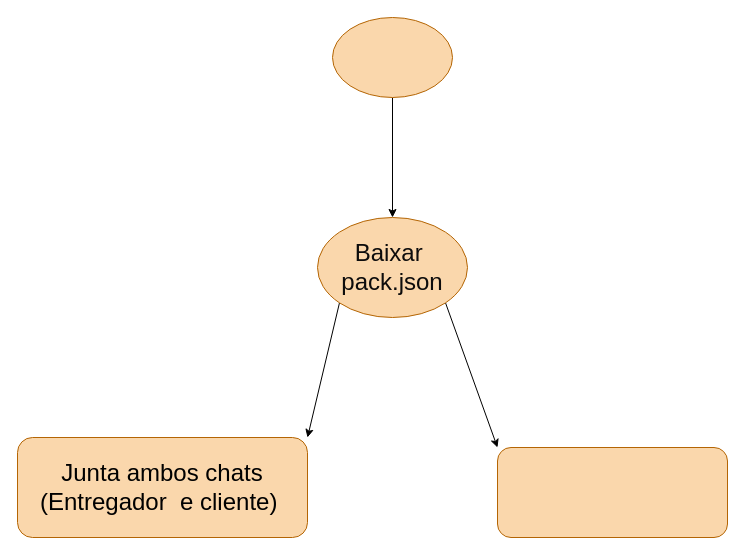
The diagram is 745 pixels wide and 555 high, and some of its shapes have lost their labels. Here are the shapes that lost their labels. From the top down, the centre of each, then its label:
the point at 392,57: Início
the point at 612,492: Config Socket.oi
